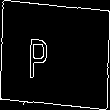P_N: (44, 28, 66, 82)
